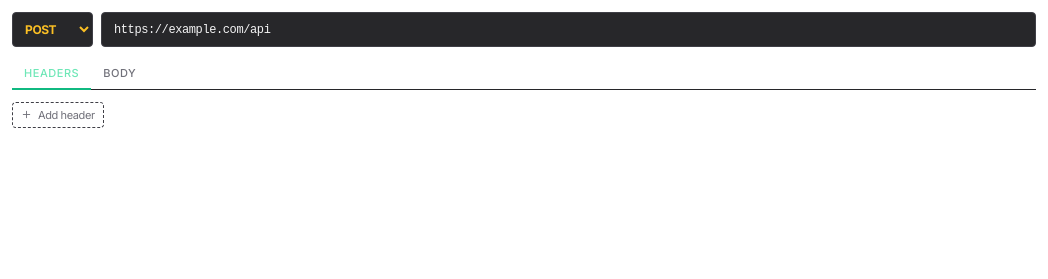
Test: RequestForm › enables the body textarea when method is POST
This screenshot has width=1048, height=279.
Click the button "Body" at [120, 74], box [91, 59, 148, 90]
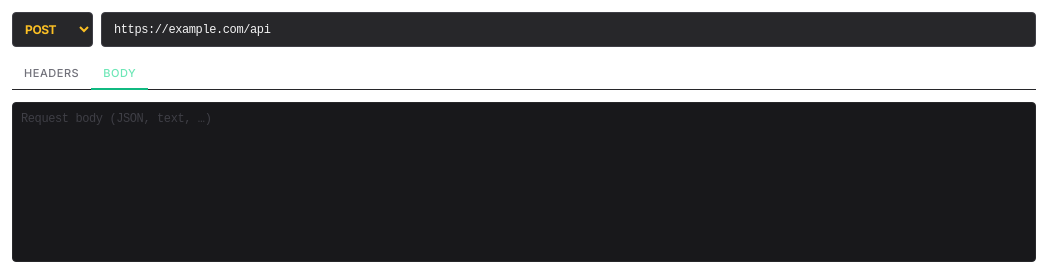
Check: the text box with placeholder "Request body (JSON, text, …)" is enabled, box [12, 102, 1036, 262]
